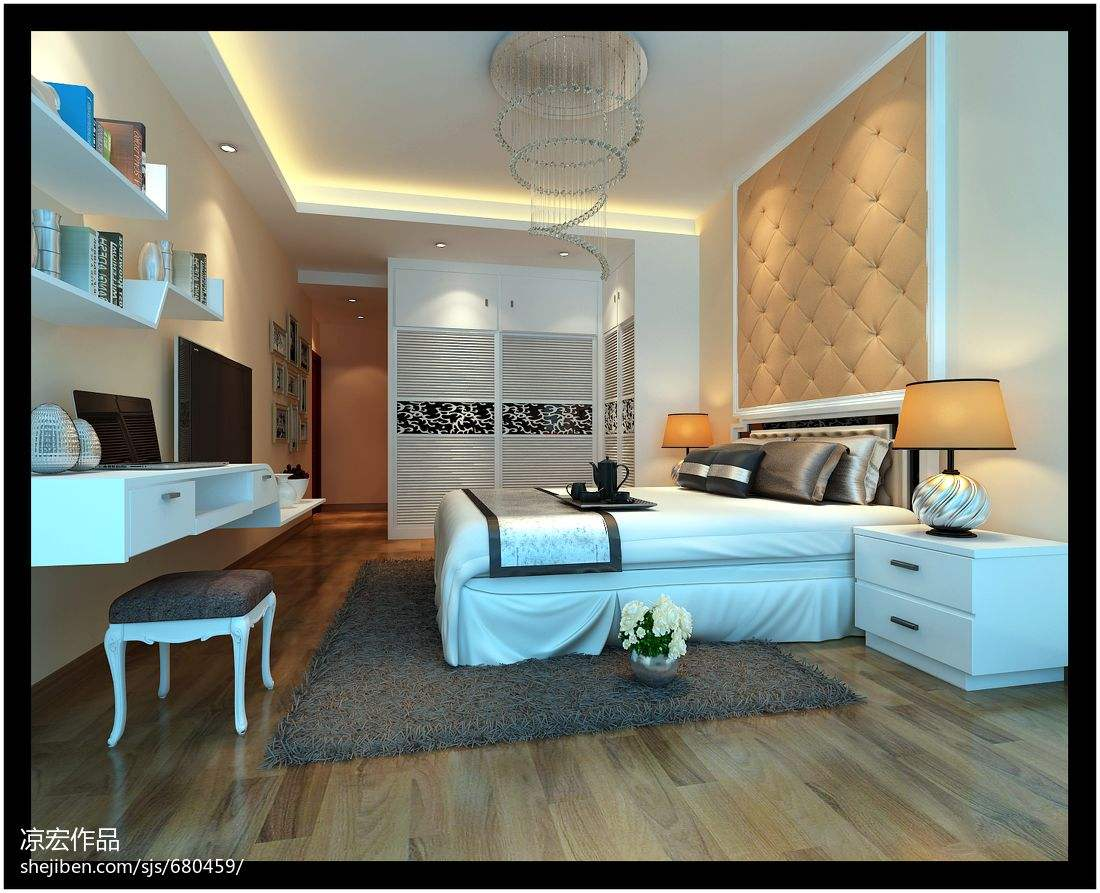床: (423, 480, 895, 681)
枕头: (663, 431, 877, 510)
灯: (481, 32, 637, 246), (884, 376, 1007, 539), (657, 409, 712, 468), (208, 141, 233, 161), (420, 240, 443, 257)
